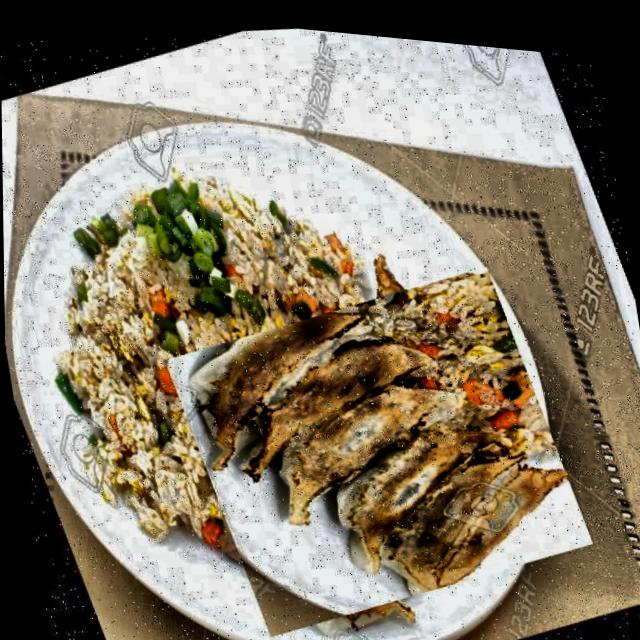Food: (160, 213, 594, 640)
